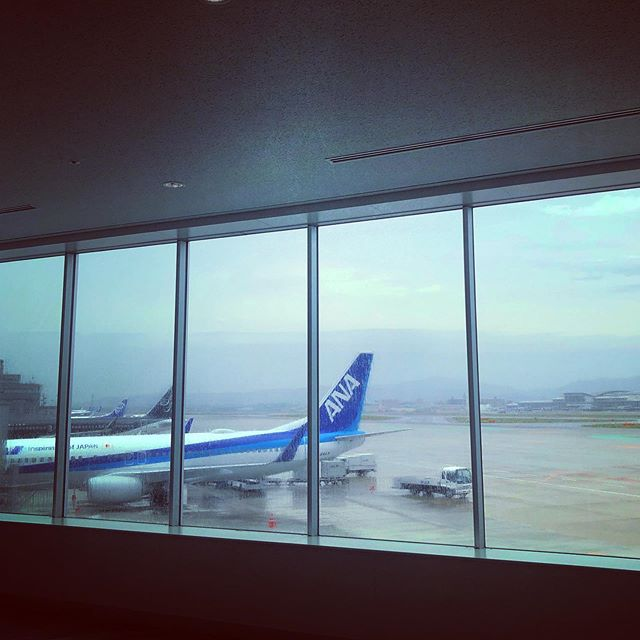plane: (1, 364, 386, 500)
sky: (1, 199, 640, 392)
window: (1, 226, 629, 559)
